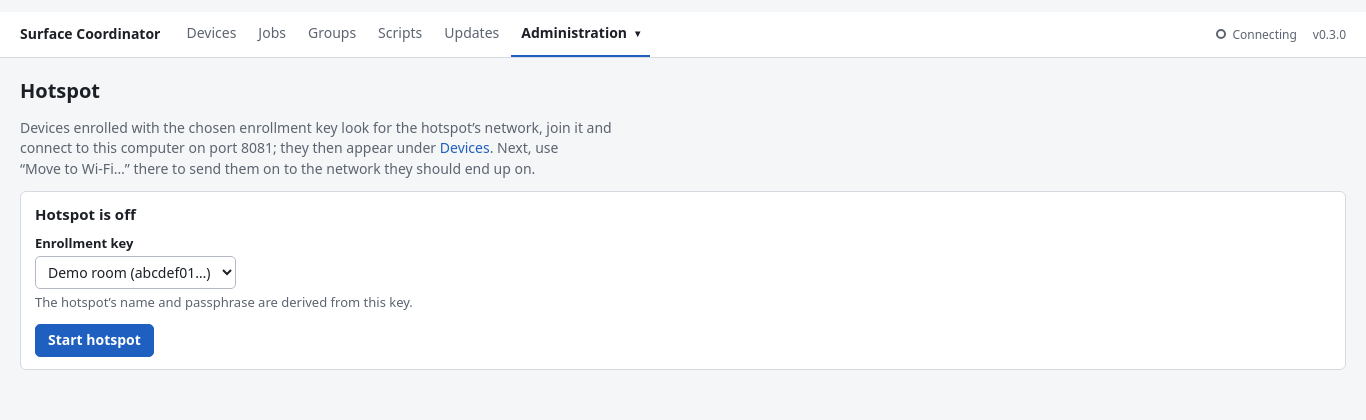
Test case: Hotspot, errors › shows not_found inline
What coordinates should you click on to do the following:
click the button "Start hotspot"
I would click on:
 (94, 340)
Its box is [35,324,154,357].
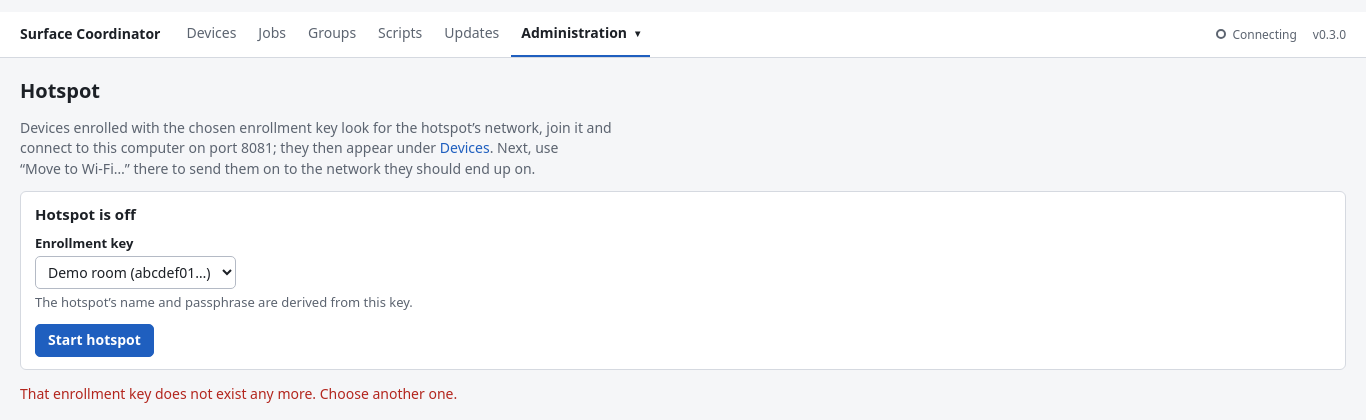
expect the message shows "does not exist any more": met, box [20,384,457,403]
